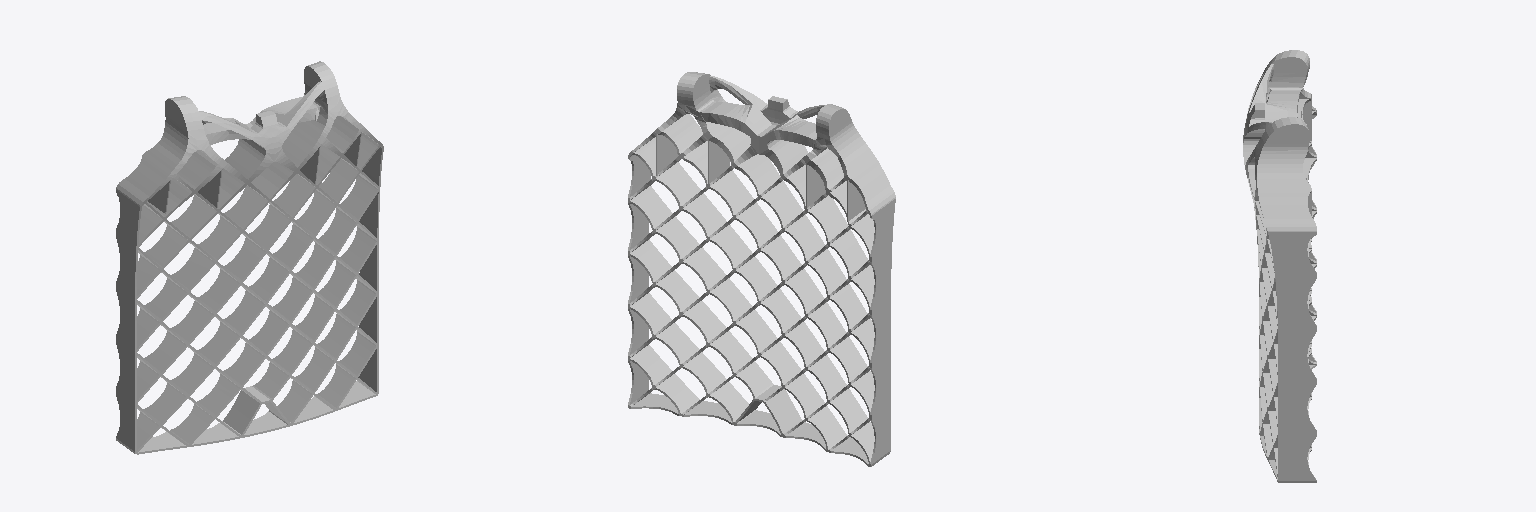
File: new-grid-fin.obj
3 views of the same model, side by side, from view 1: azimuth 30°, elevation 25°; view 2: azimuth 150°, elevation 25°; view 3: azimuth 270°, elevation 25° (orthographic).
Parts seen in each view (by area): view 1: new_grid_fin; view 2: new_grid_fin; view 3: new_grid_fin.
Part boxes in pixels (bbox=[...]): new_grid_fin: bbox=[116, 61, 383, 454]; new_grid_fin: bbox=[628, 72, 895, 466]; new_grid_fin: bbox=[1243, 50, 1316, 482].
Size of the model in its own units: 1.19 by 1.58 by 0.3126.